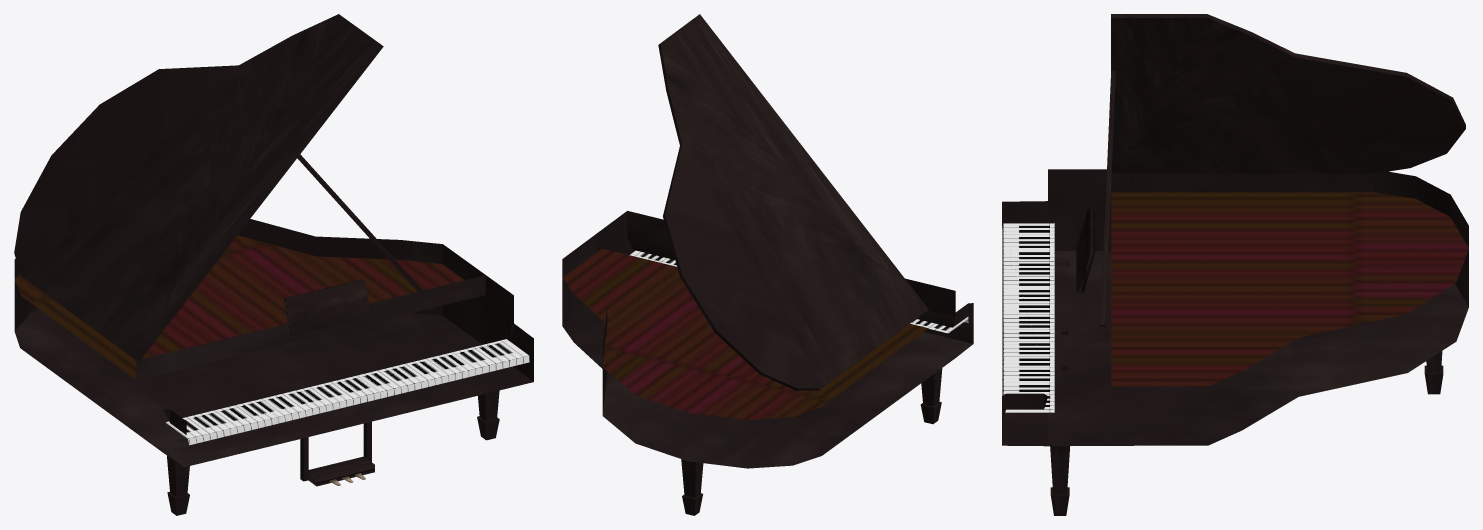
File: Piano.glb
3 renders of one model, left to right at view 1: azimuth 30°, elevation 25°; view 2: azimuth 150°, elevation 25°; view 3: azimuth 270°, elevation 25°, orthographic. The views are drawn at different scales.
Parts seen in each view (by area): view 1: Lid, Piano_main_Body, Piano_main_Body.001, Piano_main_Body.002, Cube, Cube.002, Foot2, Cube.001, Foot1; view 2: Lid, Piano_main_Body, Piano_main_Body.001, Foot2.001, Foot2, Piano_main_Body.002; view 3: Piano_main_Body.001, Piano_main_Body, Lid, Piano_main_Body.002, Cube.001, Foot1, Cube, Foot2.001.
Part boxes in pixels (x1,y1,x2,y2): Lid: [14, 14, 383, 361]; Piano_main_Body: [14, 219, 533, 467]; Piano_main_Body.001: [14, 235, 464, 379]; Piano_main_Body.002: [166, 339, 529, 445]; Cube: [284, 279, 370, 337]; Cube.002: [300, 421, 374, 486]; Foot2: [167, 438, 189, 515]; Cube.001: [297, 154, 424, 295]; Foot1: [477, 390, 499, 440]; Lid: [658, 14, 928, 390]; Piano_main_Body: [562, 211, 973, 468]; Piano_main_Body.001: [563, 248, 928, 419]; Foot2.001: [681, 459, 703, 515]; Foot2: [920, 352, 942, 424]; Piano_main_Body.002: [629, 250, 968, 333]; Piano_main_Body.001: [1111, 192, 1468, 386]; Piano_main_Body: [1002, 169, 1468, 445]; Lid: [1111, 14, 1465, 173]; Piano_main_Body.002: [1002, 223, 1054, 412]; Cube.001: [1100, 71, 1115, 326]; Foot1: [1050, 430, 1070, 515]; Cube: [1076, 208, 1095, 292]; Foot2.001: [1424, 351, 1443, 394].
Bounding box in the file's own units: 3.09 × 3.34 × 3.12.
Materials: 4 (4 with a texture image).
